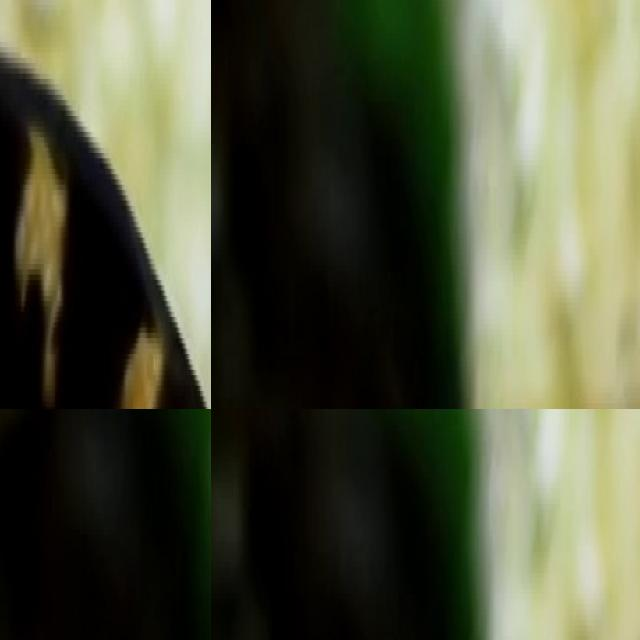fish: (0, 0, 211, 409)
